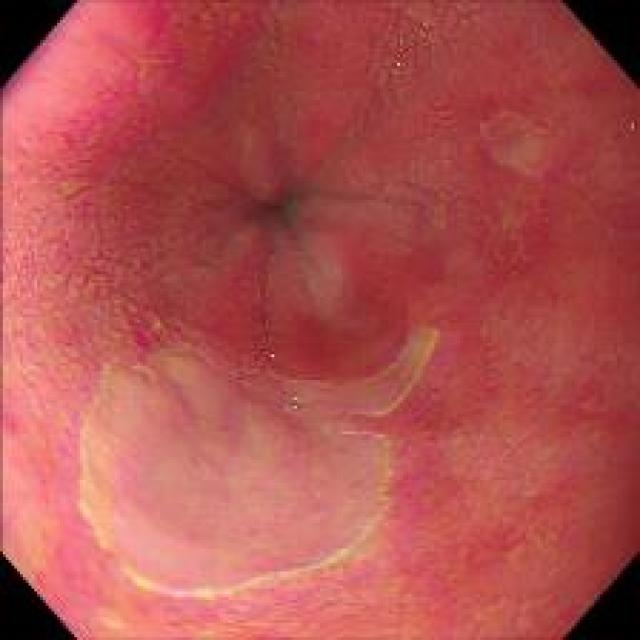blur: (111, 96, 429, 344)
bubbles: (272, 394, 311, 412), (382, 59, 411, 78)
